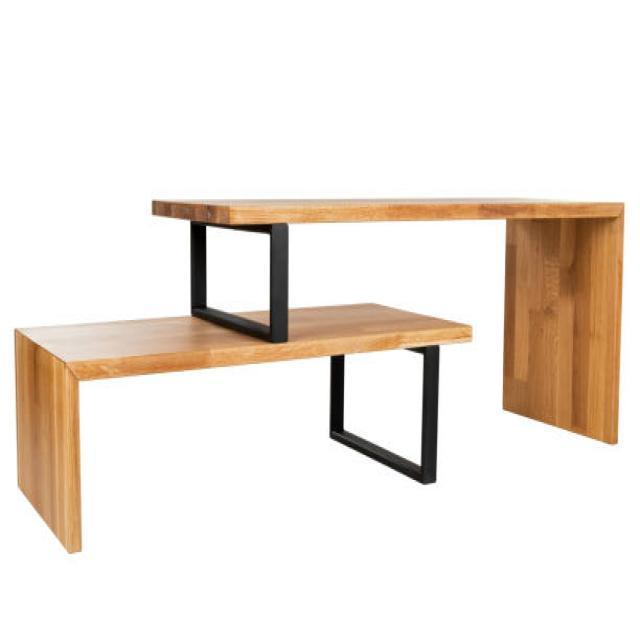table: (150, 196, 624, 446), (14, 300, 472, 552)
